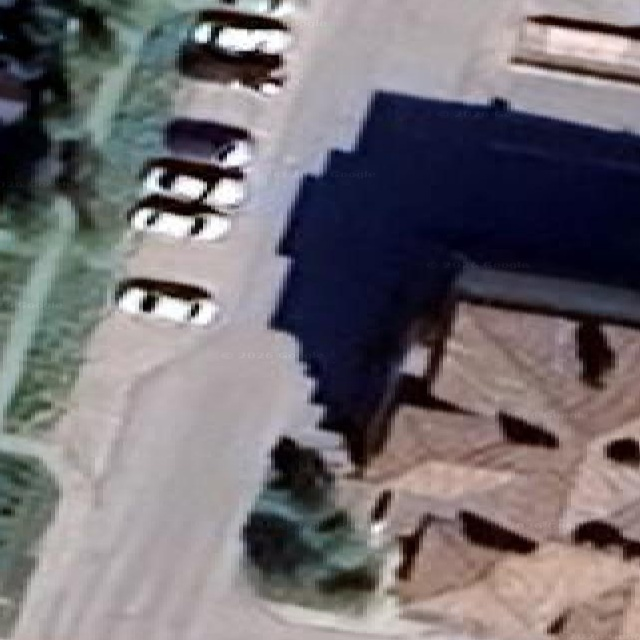car: (179, 11, 289, 94), (510, 13, 639, 83), (0, 0, 67, 107), (0, 55, 51, 193), (180, 44, 286, 95), (141, 156, 244, 208), (188, 9, 291, 60), (115, 278, 219, 324), (128, 195, 231, 240), (164, 118, 252, 167), (0, 32, 44, 87), (0, 68, 27, 124), (218, 0, 303, 16), (369, 488, 392, 547), (0, 0, 16, 18), (54, 164, 60, 178), (220, 0, 227, 3), (0, 24, 3, 27)
